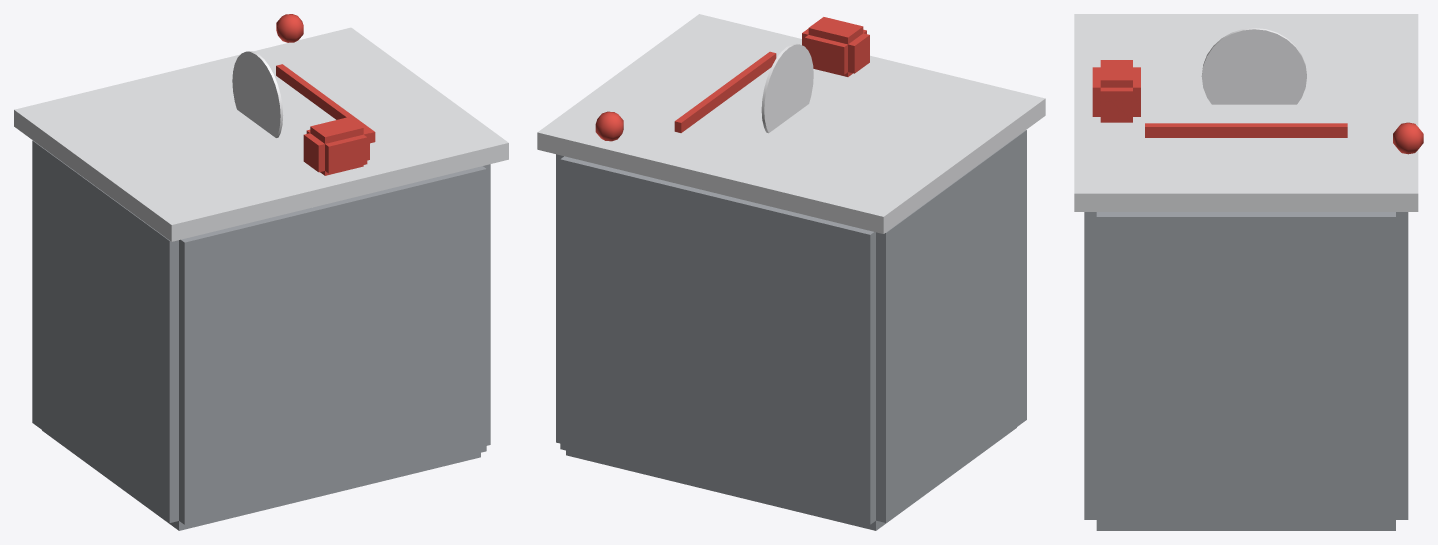
File: saw_table.glb
3 renders of one model, left to right at view 1: azimuth 30°, elevation 25°; view 2: azimuth 150°, elevation 25°; view 3: azimuth 270°, elevation 25°, orthographic. The views are drawn at different scales.
Parts seen in each view (by area): view 1: saw_table; view 2: saw_table; view 3: saw_table.
Part boxes in pixels (x1=…): saw_table: x1=14, y1=14, x2=508, y2=530; saw_table: x1=537, y1=14, x2=1045, y2=530; saw_table: x1=1074, y1=14, x2=1423, y2=530.
Bounding box in the file's own units: 1.05 × 1.15 × 0.863.
